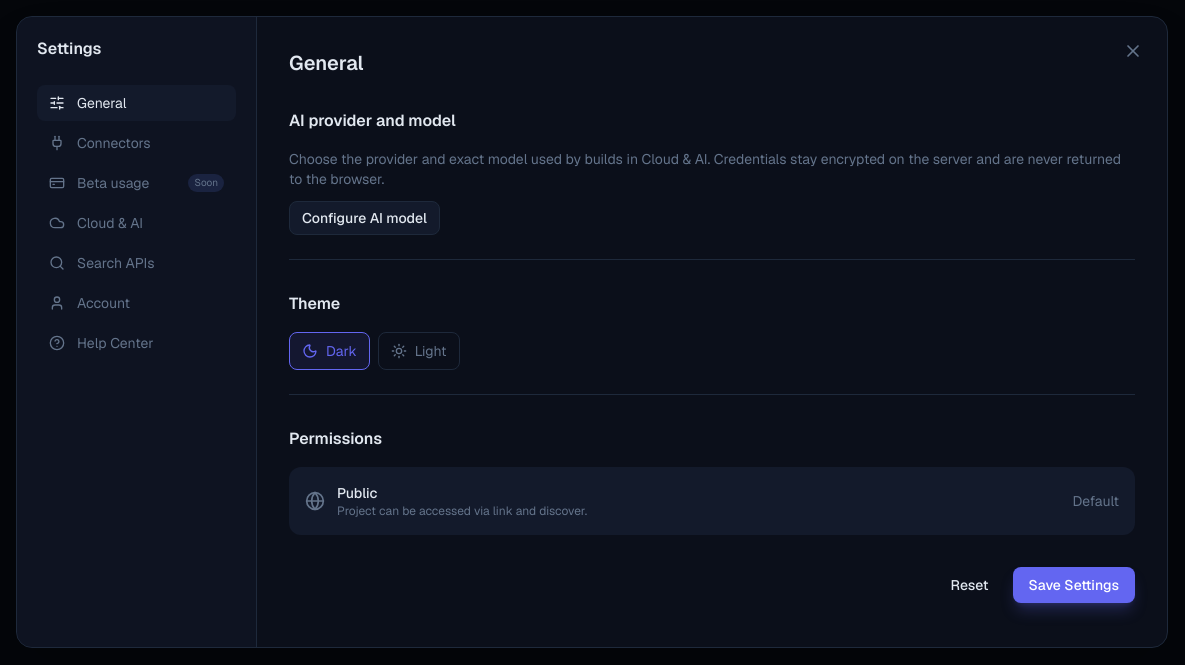
SettingsModal › navigates to search API credentials
Click the button "Search APIs": (136, 263) [37,245,236,281]
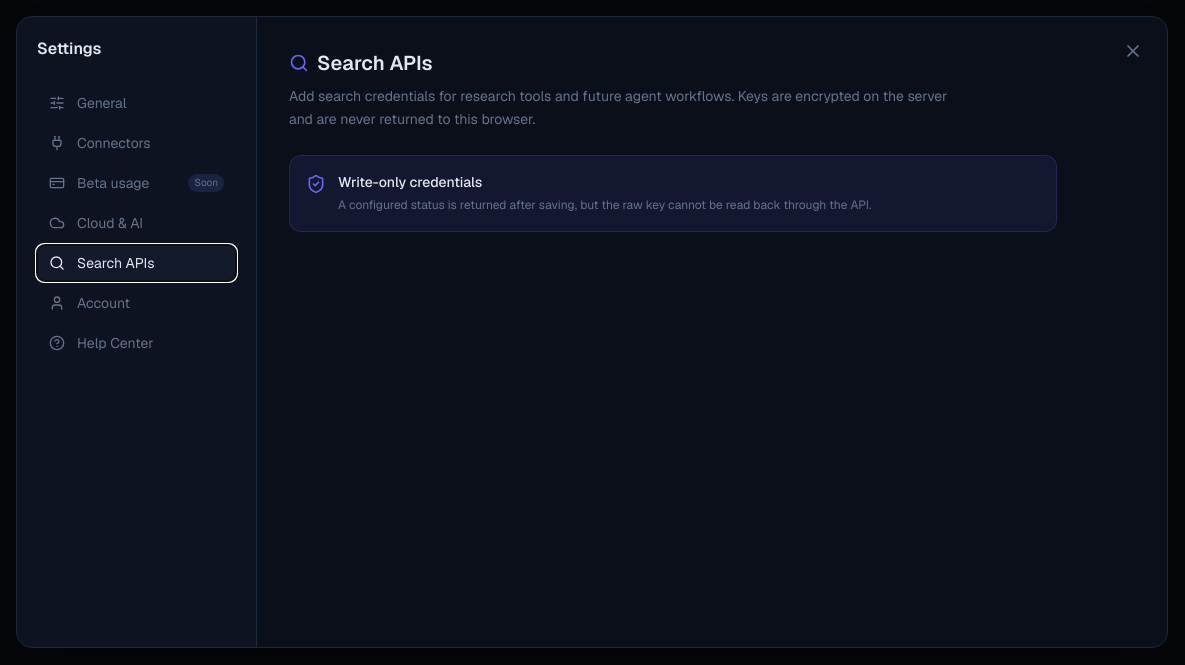
Now the heading "Search APIs" is shown, box [317,49,433,77]
